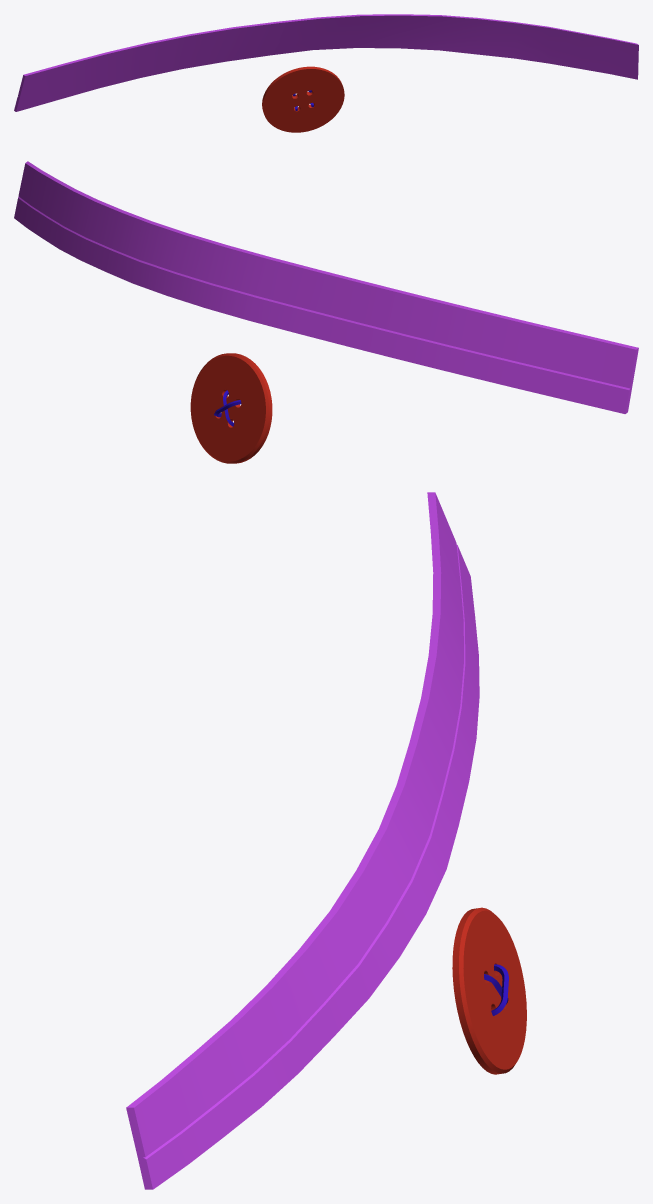
Rendered from SM_CarlosSA_Trousers_BackPockets_1RevolverL.fbx.
3 renders of one model, top to bottom at view 1: azimuth 30°, elevation 25°; view 2: azimuth 150°, elevation 25°; view 3: azimuth 270°, elevation 25°, orthographic. The views are drawn at different scales.
Parts seen in each view (by area): view 1: SM_CarlosSA_Trousers_BackPockets_1RevolverL; view 2: SM_CarlosSA_Trousers_BackPockets_1RevolverL; view 3: SM_CarlosSA_Trousers_BackPockets_1RevolverL.
Part boxes in pixels (x1,y1,x2,y2): SM_CarlosSA_Trousers_BackPockets_1RevolverL: (14,14,638,132); SM_CarlosSA_Trousers_BackPockets_1RevolverL: (14,161,638,463); SM_CarlosSA_Trousers_BackPockets_1RevolverL: (126,492,526,1189).
Bounding box in the file's own units: 0.0897 × 0.0227 × 0.0287.
